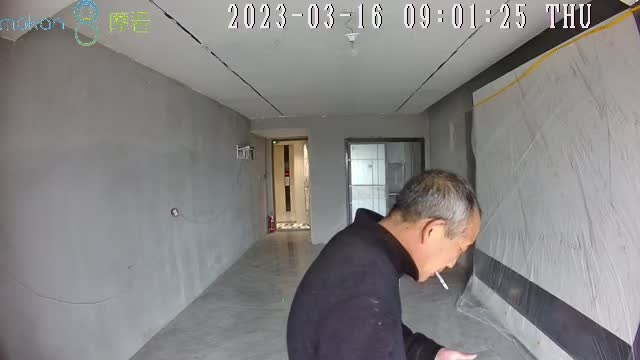people: (285, 169, 481, 360)
window: (348, 140, 424, 226)
